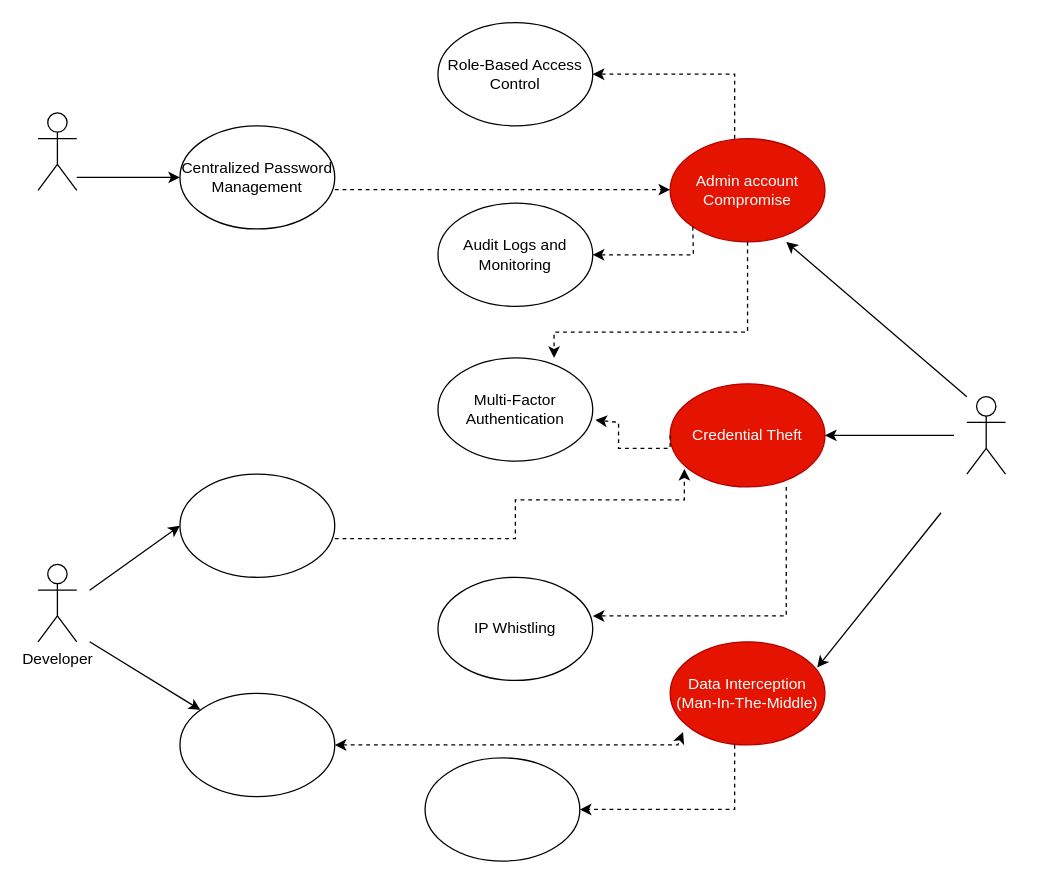
Image size: 1063x884. Some labels were removed from this diagram. Each missing label, with the box of its shape:
Admin: (37, 112, 77, 190)
End-To-End Encryption: (179, 692, 335, 797)
External Hacker: (966, 395, 1006, 474)
Secrets Management: (179, 473, 335, 577)
VPN: (424, 757, 580, 861)
